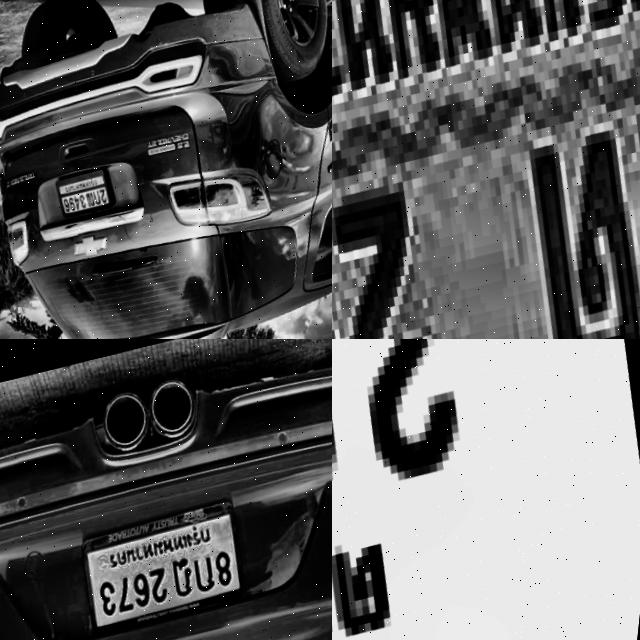license-plate: (332, 0, 640, 339), (332, 339, 640, 640), (73, 498, 263, 640), (58, 168, 129, 225)
